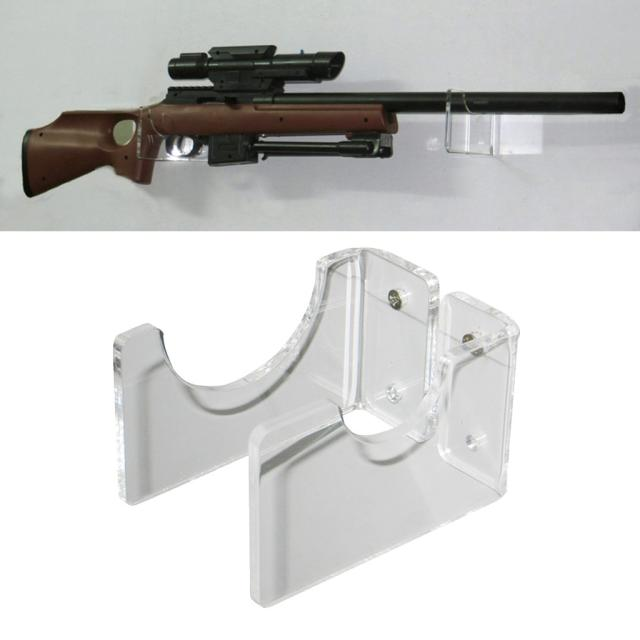Rifle: (21, 45, 627, 198)
